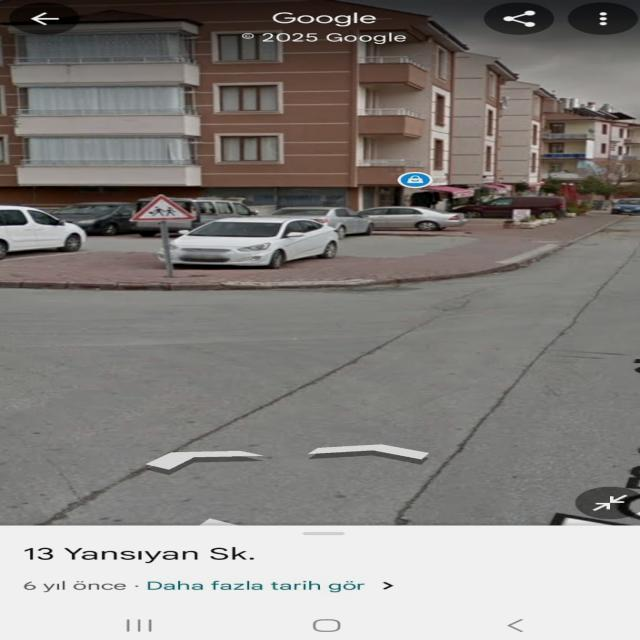okul_gecidi: (132, 194, 196, 221)
